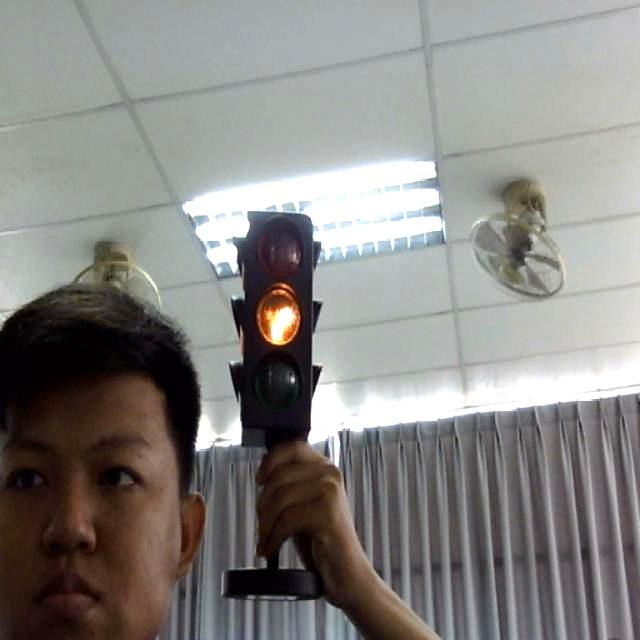Yellow: (226, 208, 325, 446)
